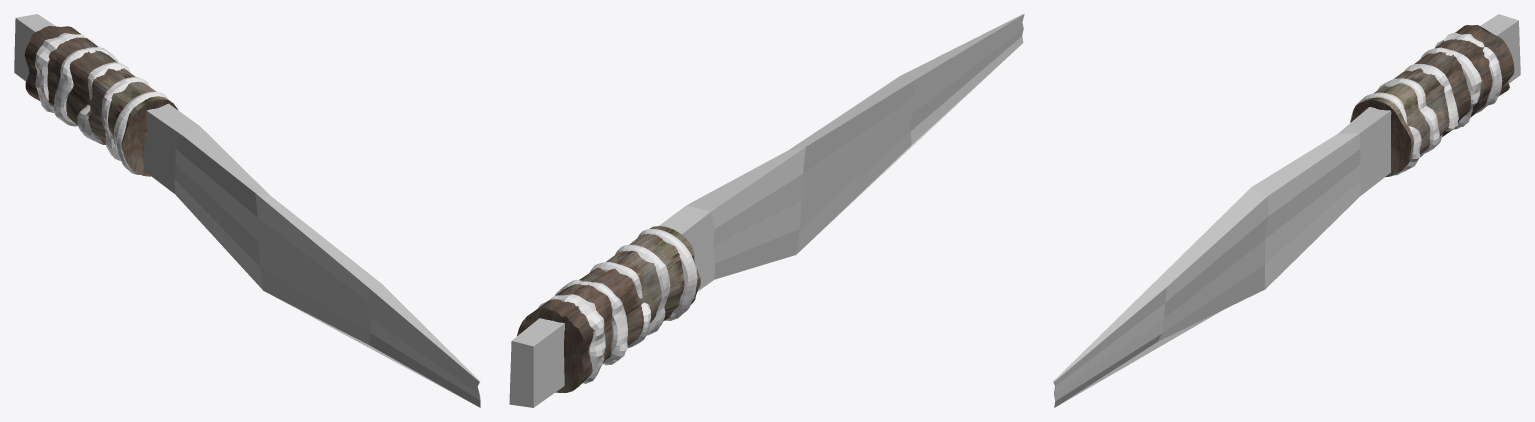
The model's file is Knife 2.fbx.
3 renders of one model, left to right at view 1: azimuth 30°, elevation 25°; view 2: azimuth 150°, elevation 25°; view 3: azimuth 330°, elevation 25°, orthographic. The views are drawn at different scales.
Visible parts, largest first — view 1: Sharpened butter knife; view 2: Sharpened butter knife; view 3: Sharpened butter knife.
Boxes of the visible parts, x1,y1,x2,y2 form: Sharpened butter knife: (14,14,480,407); Sharpened butter knife: (509,14,1024,407); Sharpened butter knife: (1053,14,1520,407).
Size of the model in its own units: 79.5 by 122 by 932.
